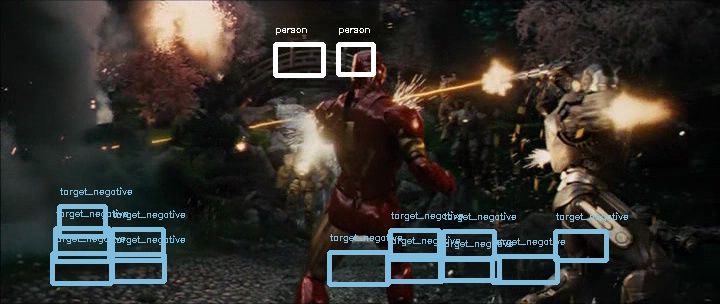person: (345, 46, 387, 85), (344, 46, 386, 85), (346, 46, 388, 85), (345, 45, 387, 84), (345, 47, 387, 86)
target_negative: (403, 39, 653, 292), (193, 187, 672, 283), (267, 141, 397, 209), (520, 242, 694, 253), (415, 286, 516, 291), (596, 182, 600, 230)
